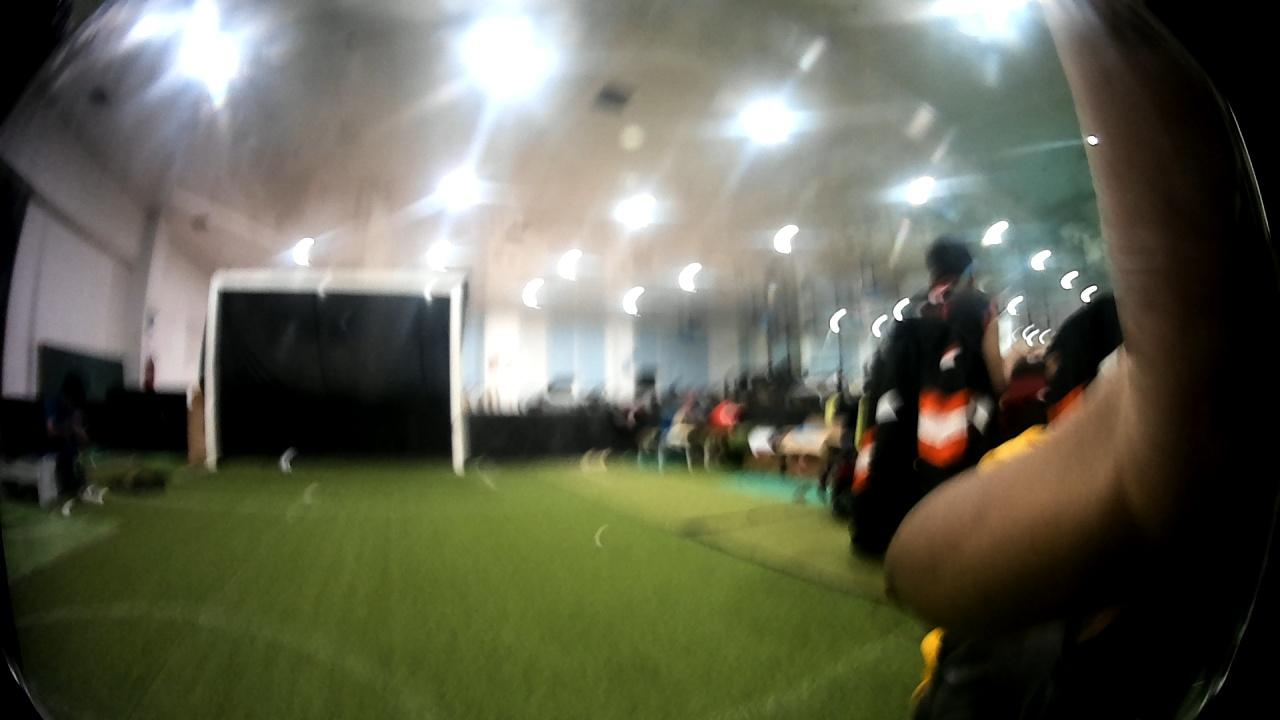ball: (275, 447, 301, 480)
